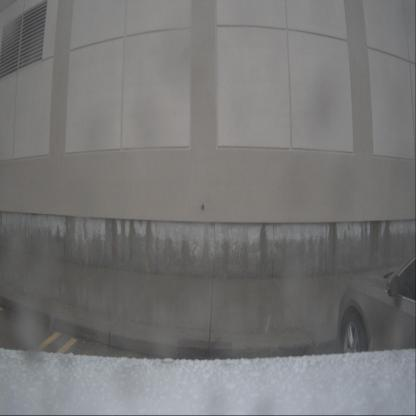vehicle-car: (336, 245, 416, 385)
